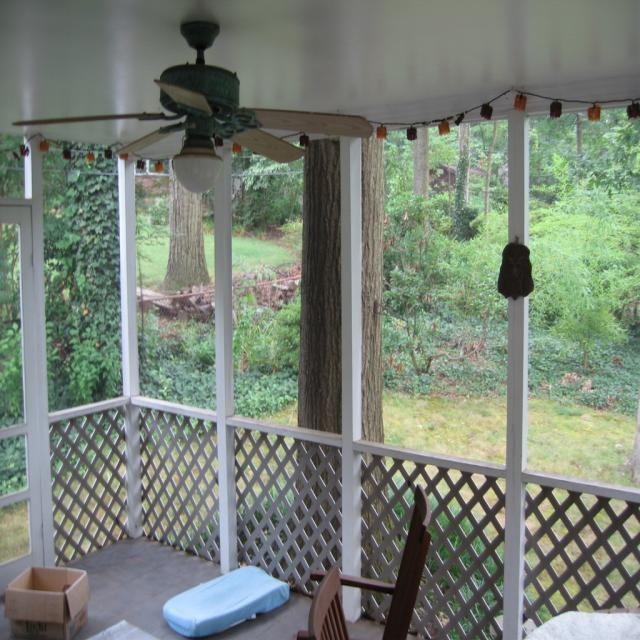fan_off: (11, 24, 374, 163)
